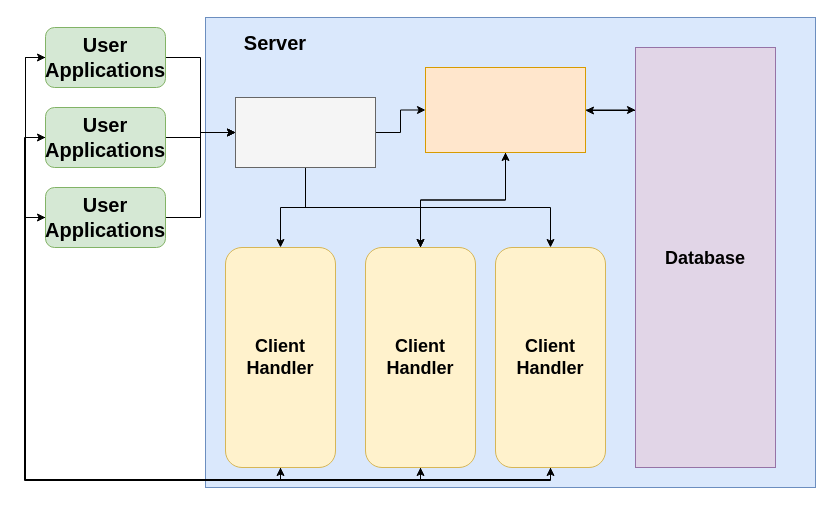
The diagram is 833 pixels wide and 506 high, and some of its shapes have lost their labels. The box of each missing label's shape, as (x1, y1, x2, y2) in pixels:
Connection Listener: (234, 96, 376, 168)
Database Connection Interface Object: (424, 66, 586, 152)
